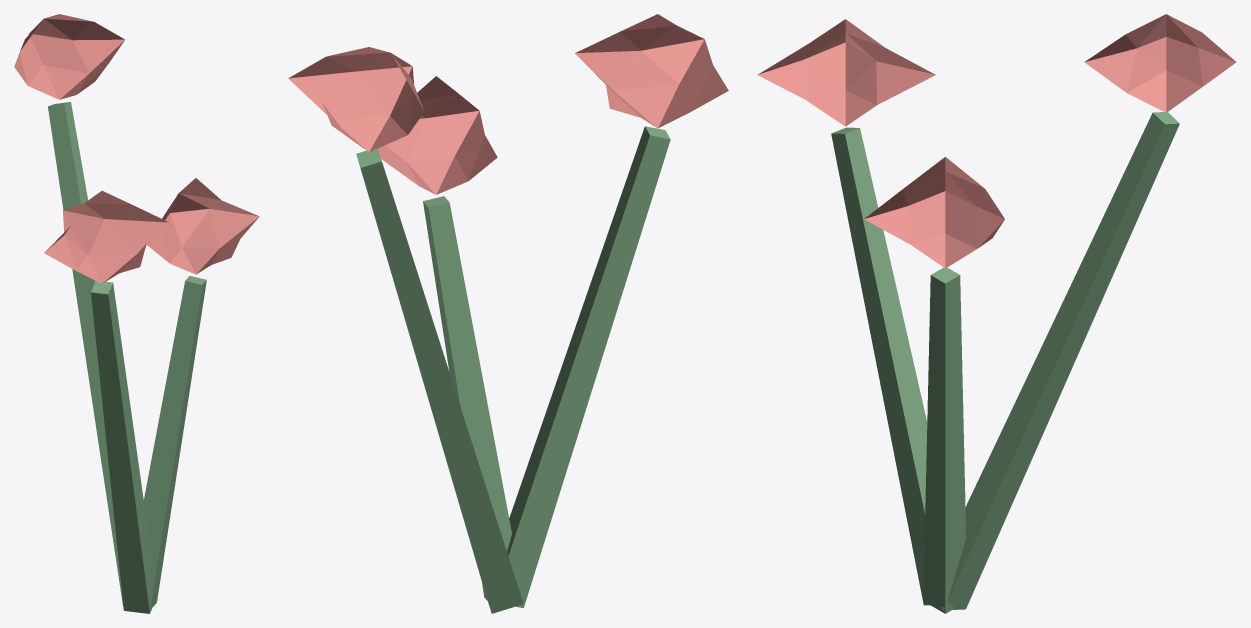
The model's file is flower_v01.glb.
The picture shows the model from 3 angles, left to right: view 1: azimuth 30°, elevation 25°; view 2: azimuth 150°, elevation 25°; view 3: azimuth 270°, elevation 25°; orthographic projection. The views are drawn at different scales.
Visible parts, largest first — view 1: lod0; view 2: lod0; view 3: lod0.
Boxes of the visible parts, x1,y1,x2,y2 form: lod0: [14, 14, 259, 613]; lod0: [288, 14, 728, 613]; lod0: [757, 14, 1236, 613].
Size of what is drawn, in the model's own units: 0.2801 by 0.54 by 0.3892.
